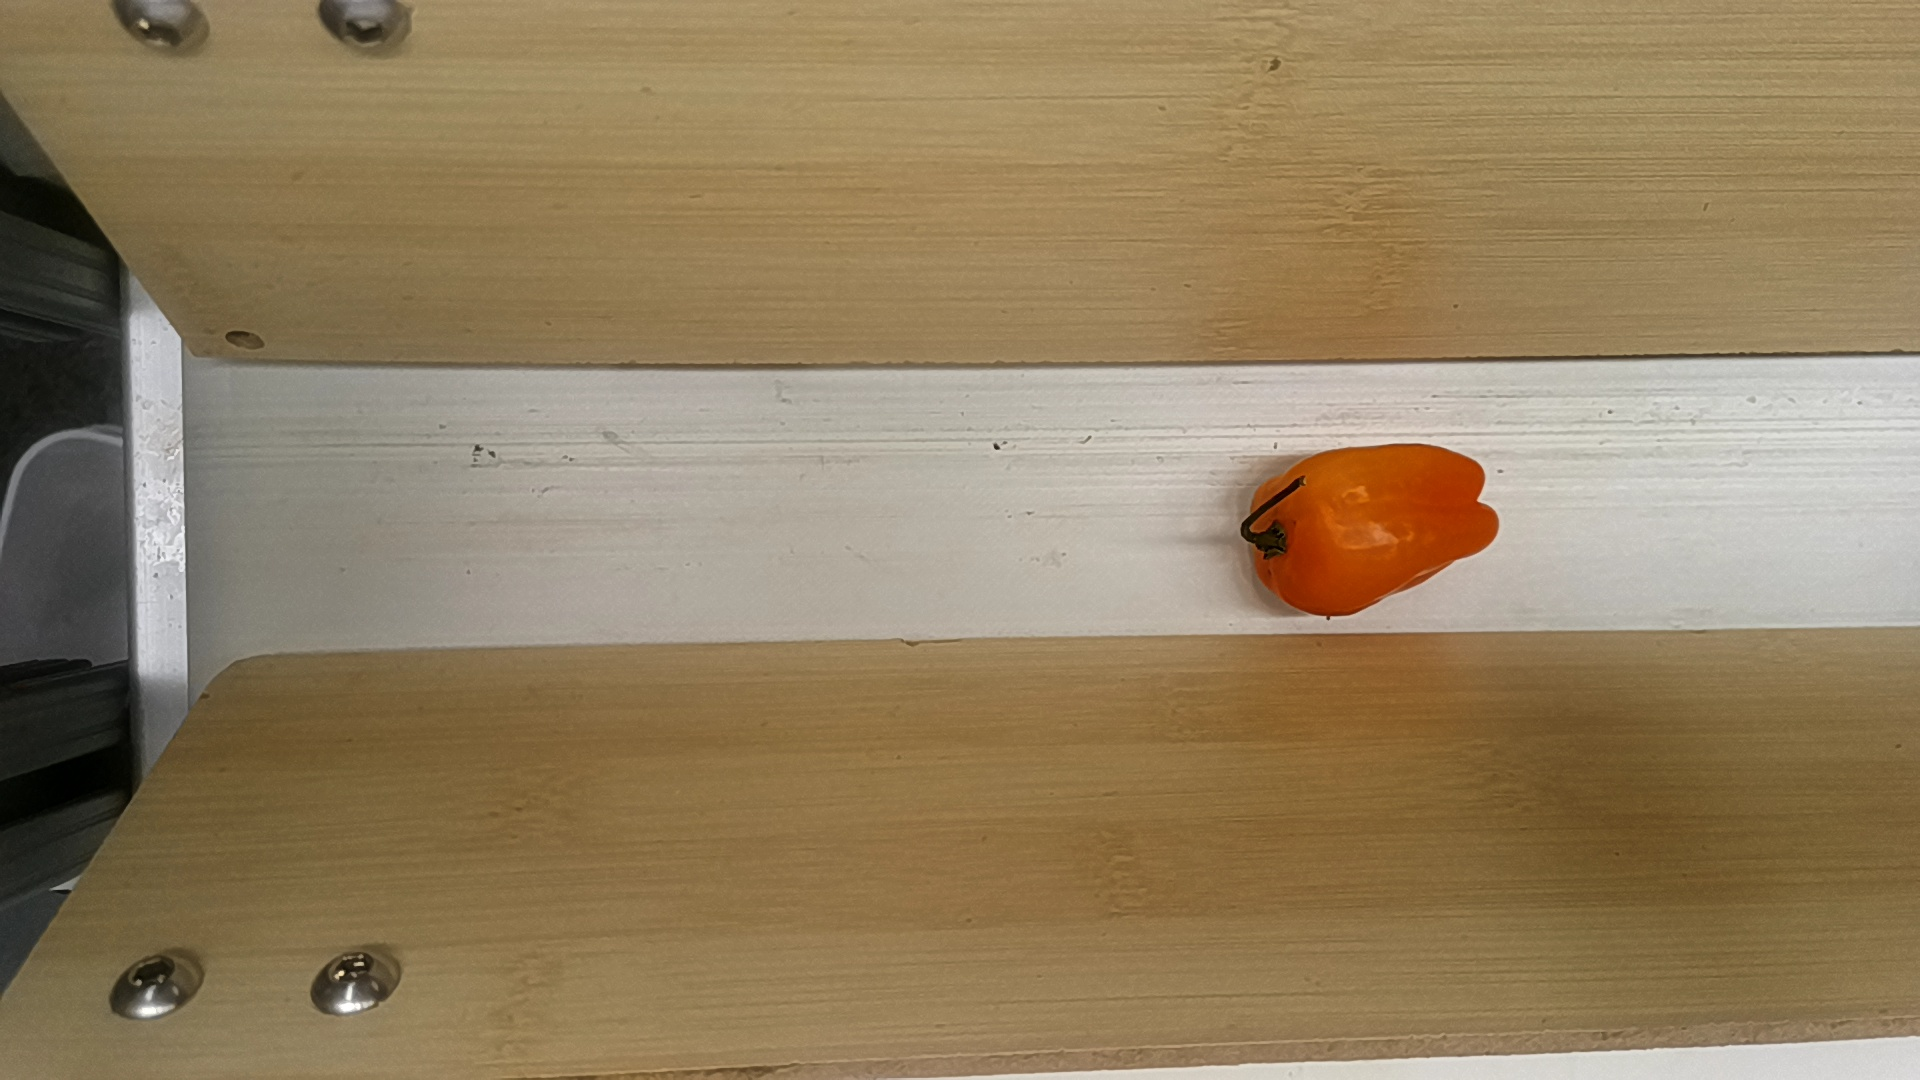Cut Point: (1261, 458, 1313, 617)
